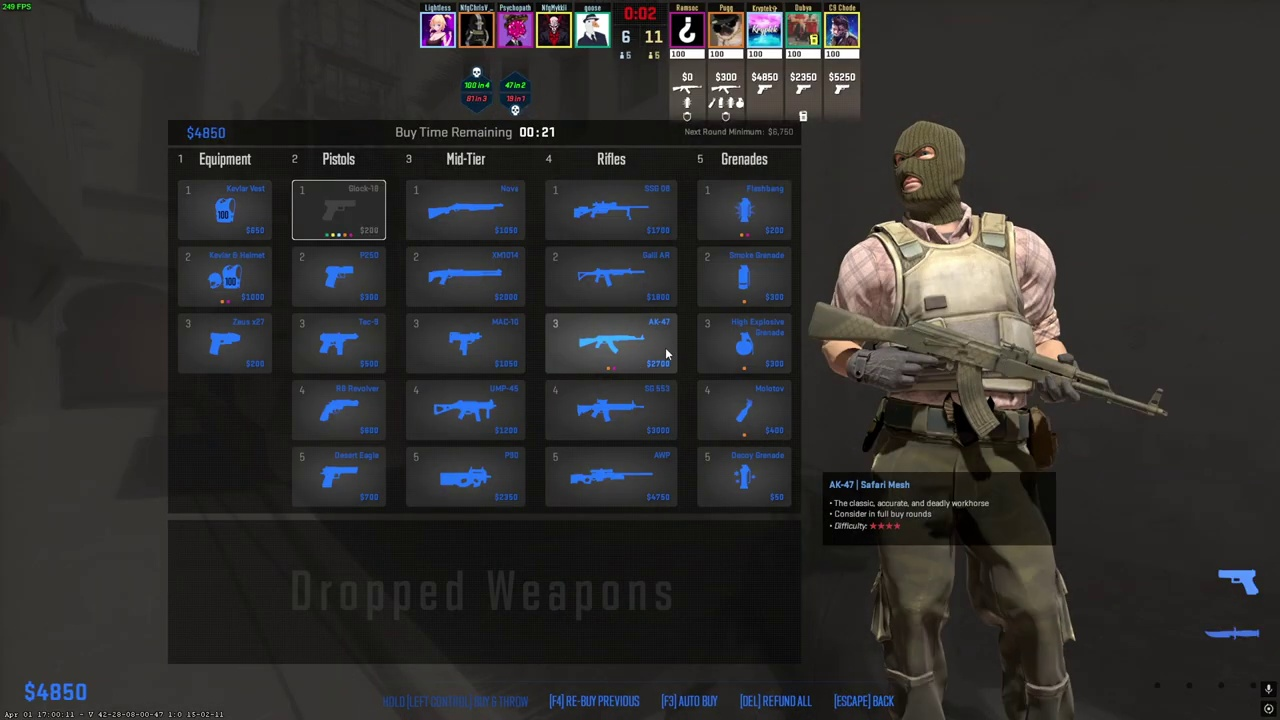Terrorist: (846, 121, 1079, 720)
